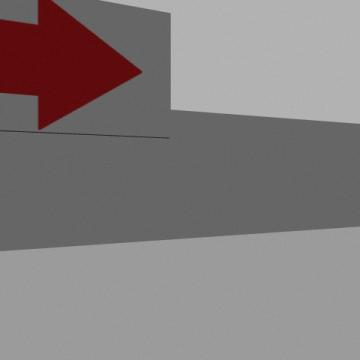red_right: (0, 0, 141, 129)
